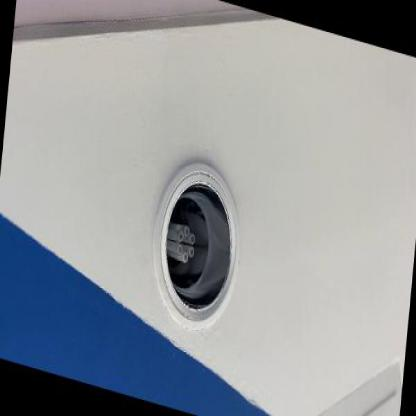light_off: (129, 107, 261, 358)
